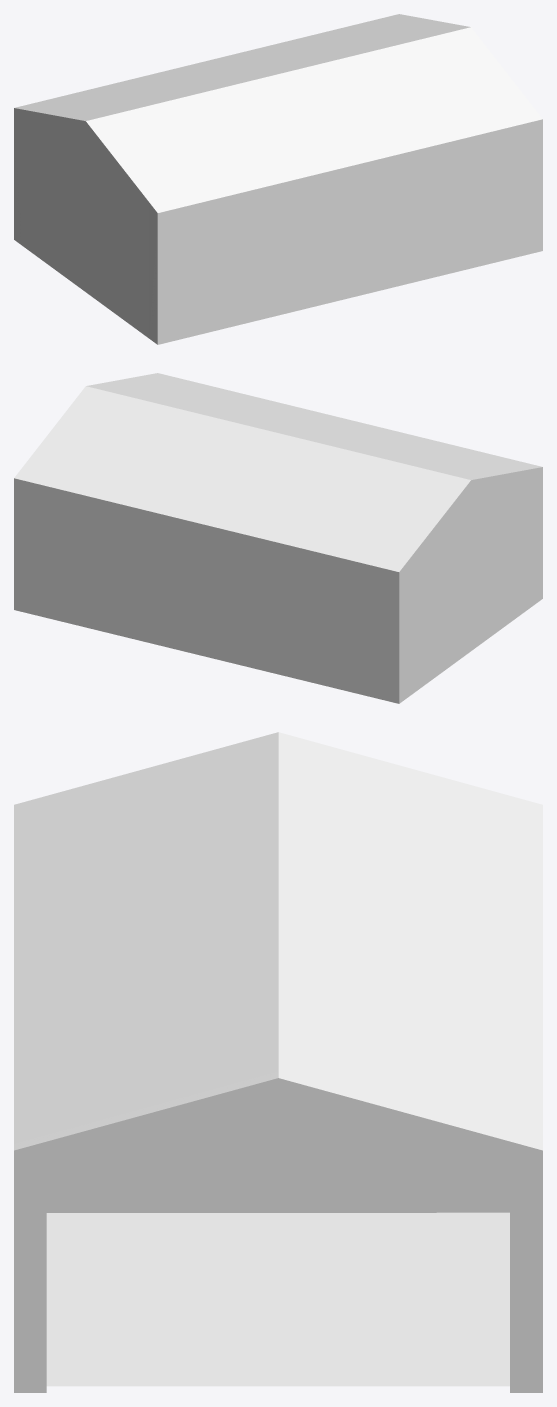
Rendered from warehouse02.obj.
3 renders of one model, top to bottom at view 1: azimuth 30°, elevation 25°; view 2: azimuth 150°, elevation 25°; view 3: azimuth 270°, elevation 25°, orthographic. The views are drawn at different scales.
Parts seen in each view (by area): view 1: Cube; view 2: Cube; view 3: Cube.
Boxes of the visible parts, bbox=[...] form: Cube: bbox=[14, 14, 542, 344]; Cube: bbox=[14, 373, 542, 703]; Cube: bbox=[14, 732, 542, 1392].
Size of the model in its own units: 6.12 by 2.6 by 3.96.
1 material, 1 textured.
